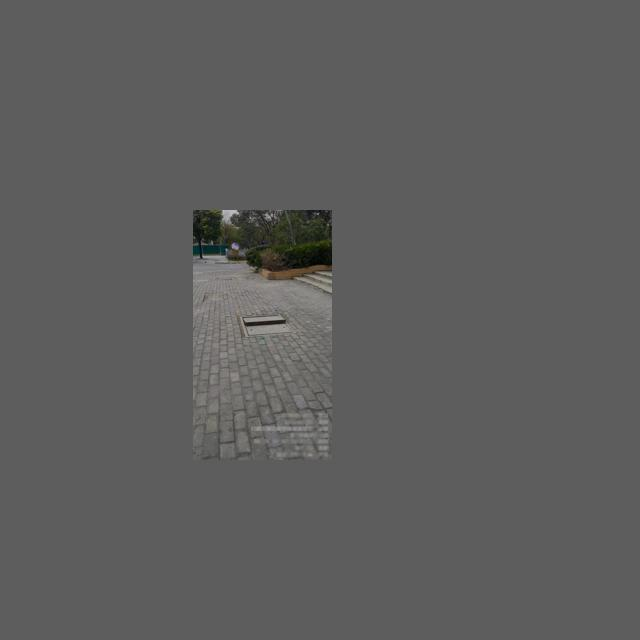uncovered: (241, 313, 298, 337)
